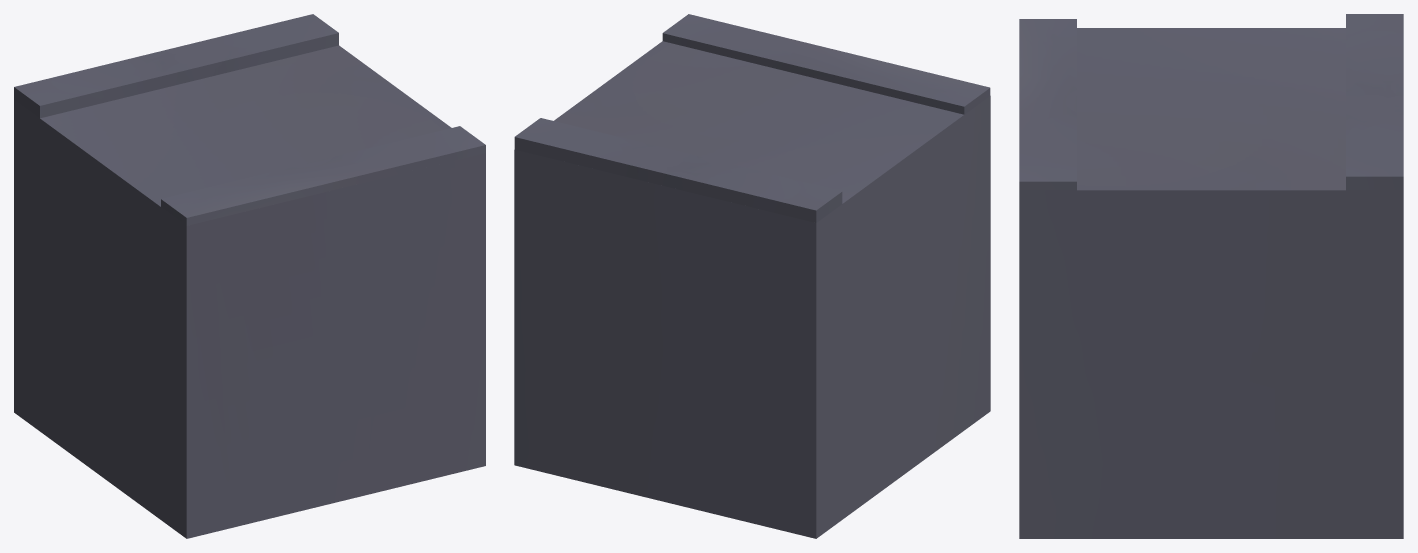
Rendered from Floor_02.FBX.
3 renders of one model, left to right at view 1: azimuth 30°, elevation 25°; view 2: azimuth 150°, elevation 25°; view 3: azimuth 270°, elevation 25°, orthographic. The views are drawn at different scales.
Parts seen in each view (by area): view 1: Floor_02; view 2: Floor_02; view 3: Floor_02.
Part boxes in pixels (x1,y1,x2,y2): Floor_02: (14, 14, 485, 538); Floor_02: (514, 14, 990, 538); Floor_02: (1019, 14, 1403, 538).
Size of the model in its own units: 100 by 100 by 104.
